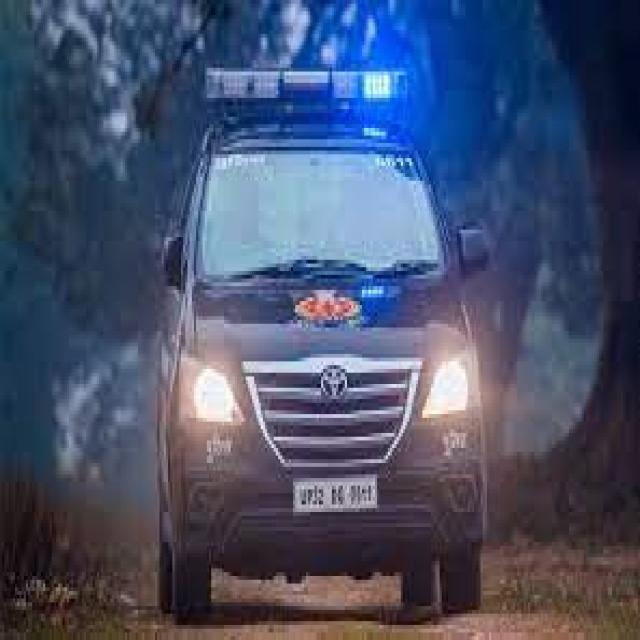emergency lights: (201, 36, 425, 119)
